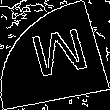M_S: (21, 24, 89, 86)
